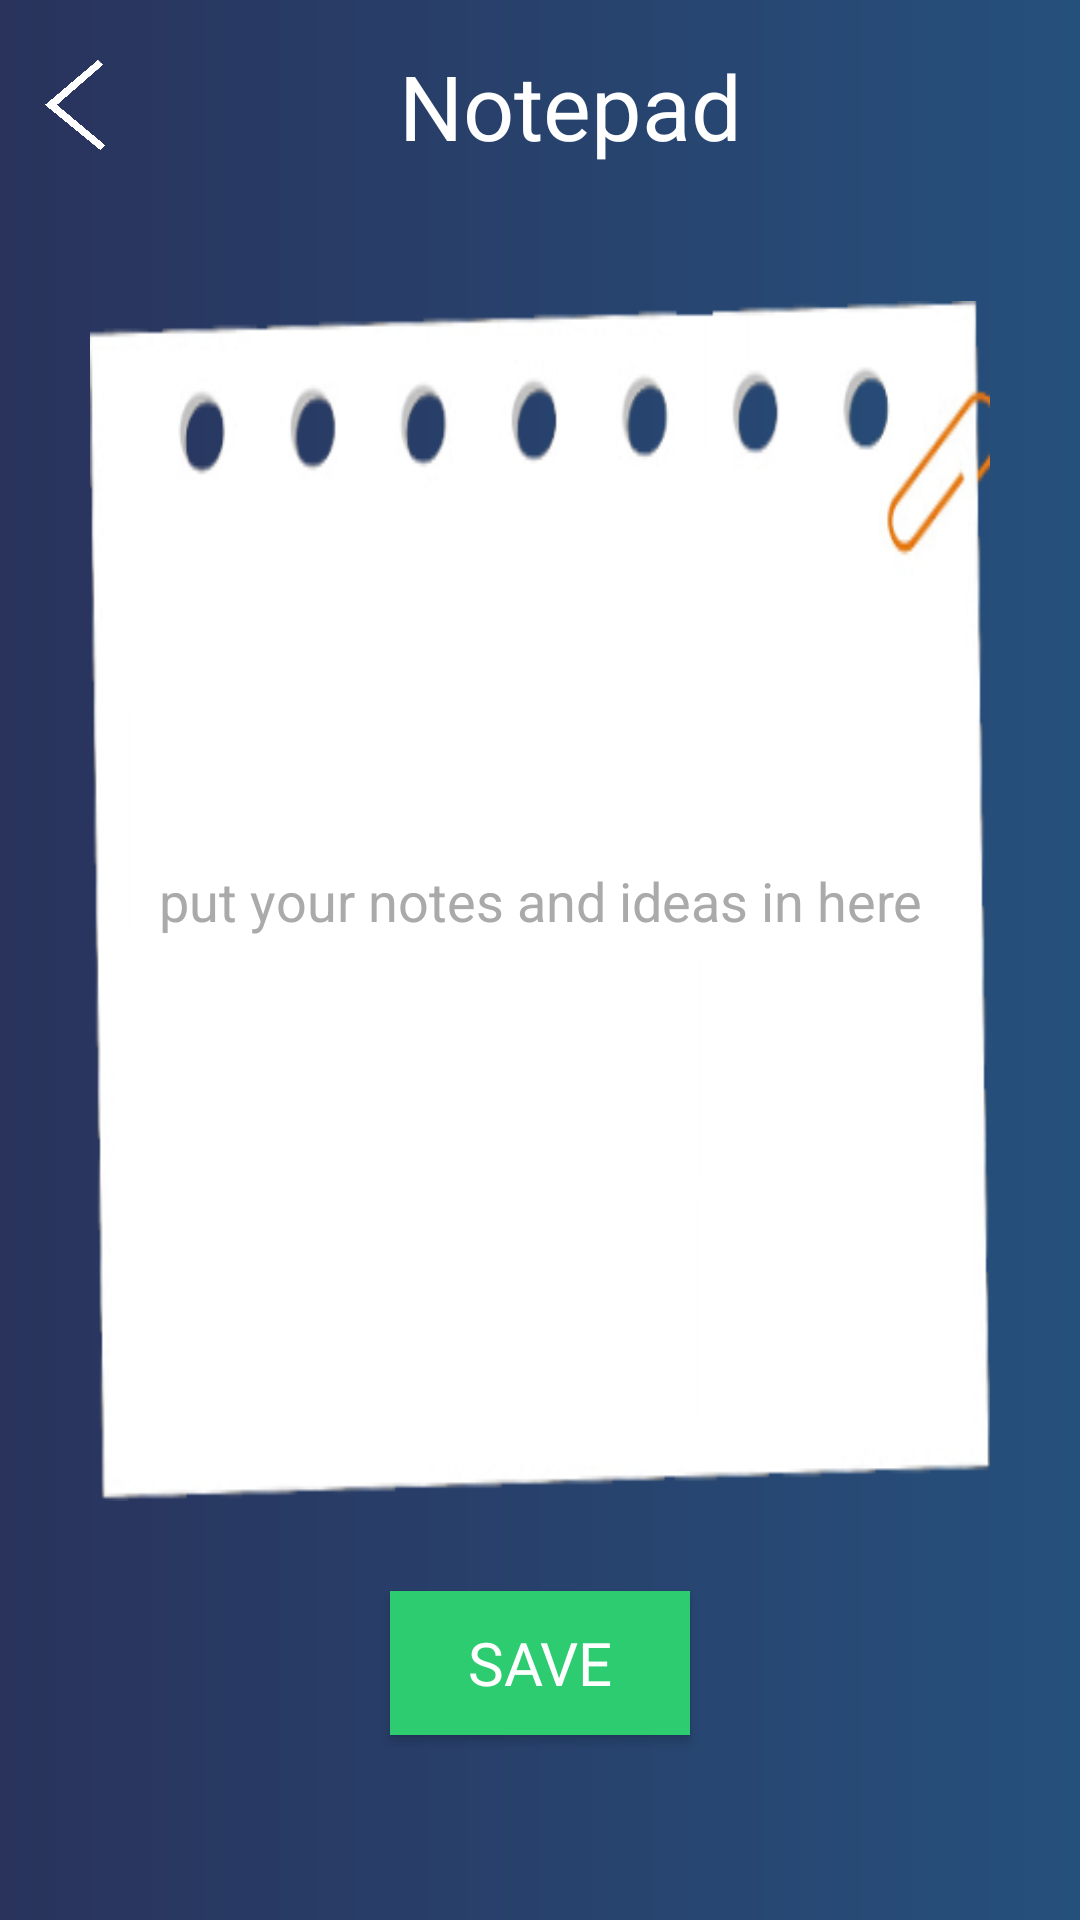

Icons on this 1080px×1920px Android screen, each with the point to tap as point (x, y):
back: point (75, 105)
